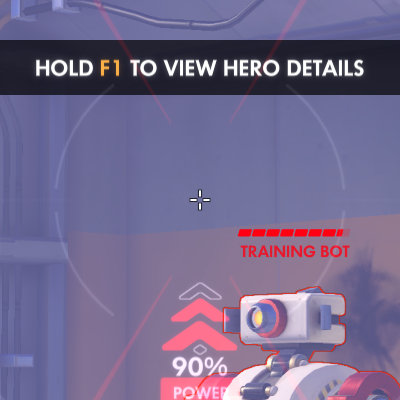hpbar: (237, 228, 351, 237)
